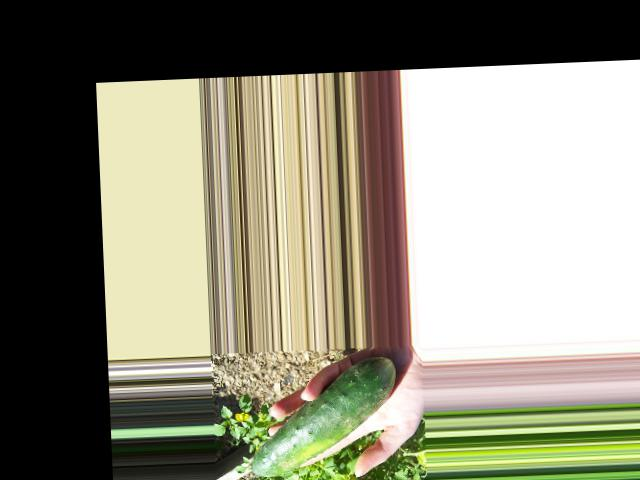cucumber: (246, 356, 398, 477)
